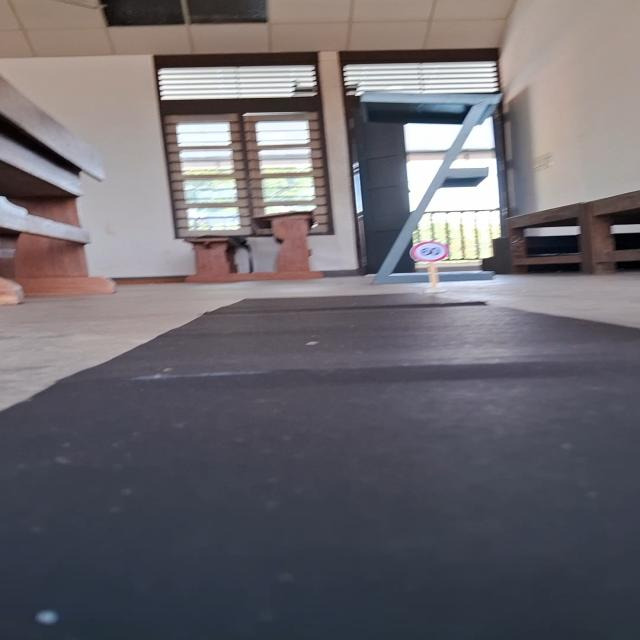Speed60: (408, 240, 452, 264)
